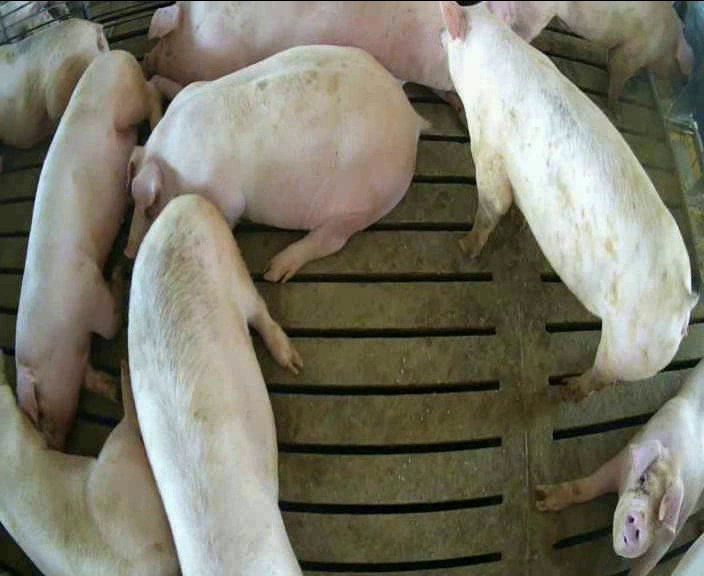pig: (124, 46, 422, 281), (16, 51, 182, 448), (128, 195, 300, 574), (536, 359, 703, 574), (144, 2, 461, 109), (510, 2, 691, 109), (0, 19, 108, 147)
